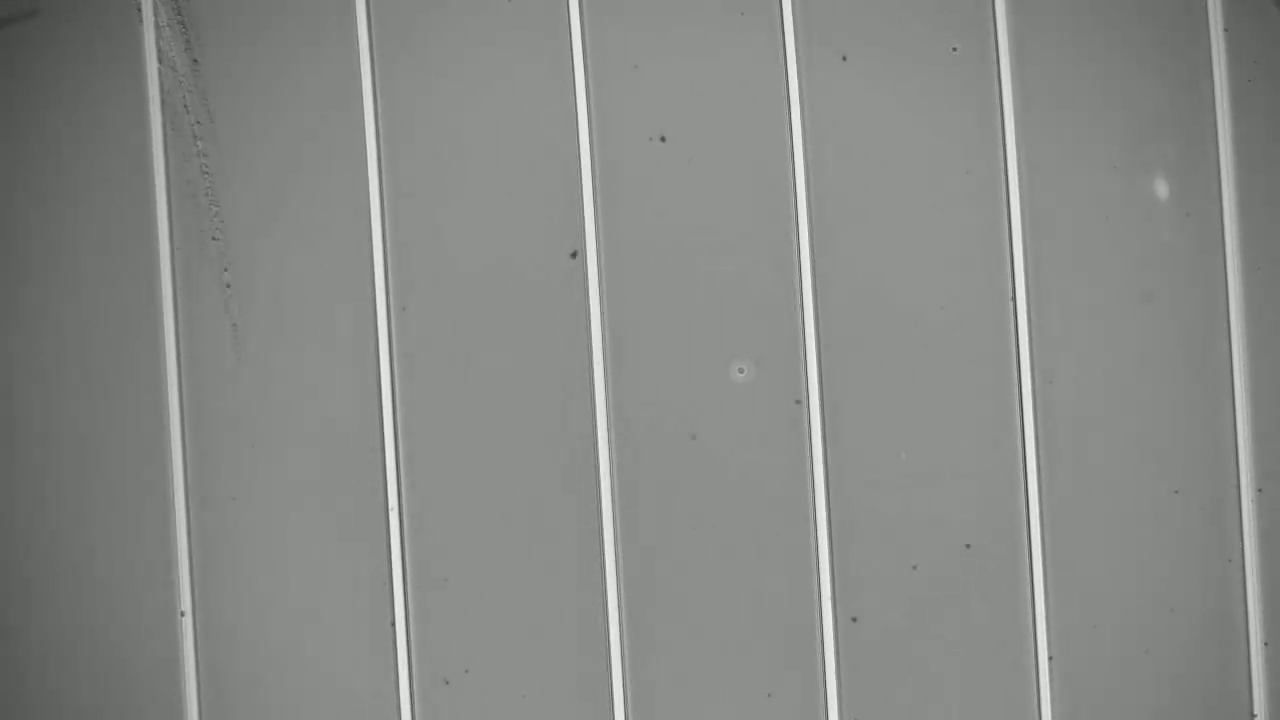scratch: (159, 4, 245, 344)
